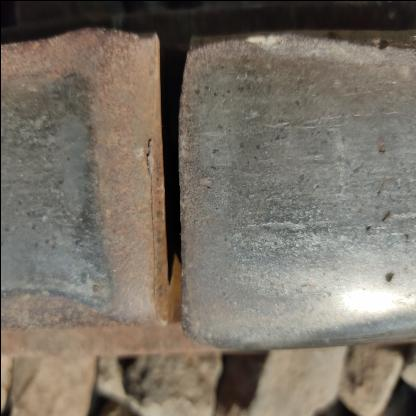Non Defective 2: (4, 0, 336, 374)
